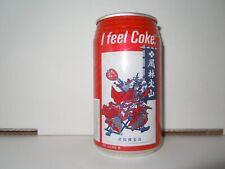metal: (94, 14, 162, 150)
